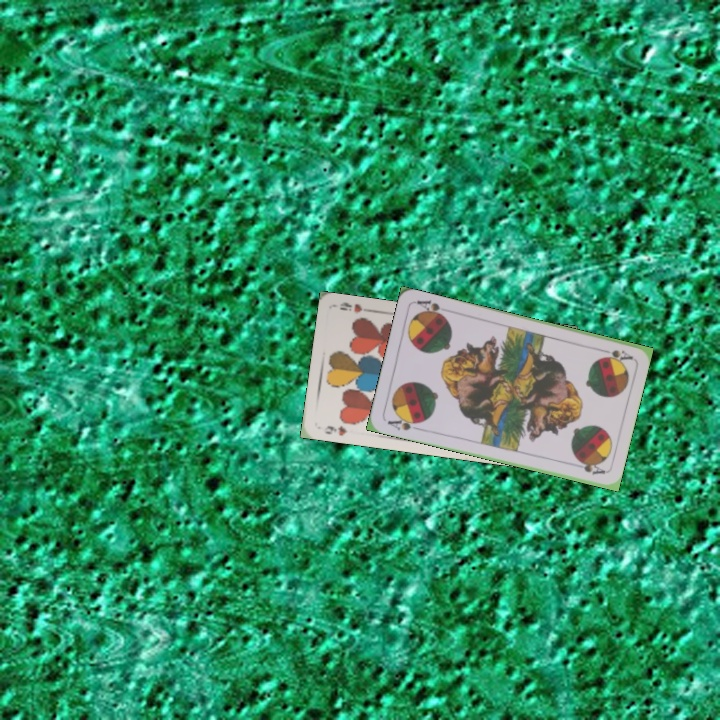H9: (317, 421, 349, 439)
SA: (383, 413, 424, 433), (595, 344, 635, 363)
